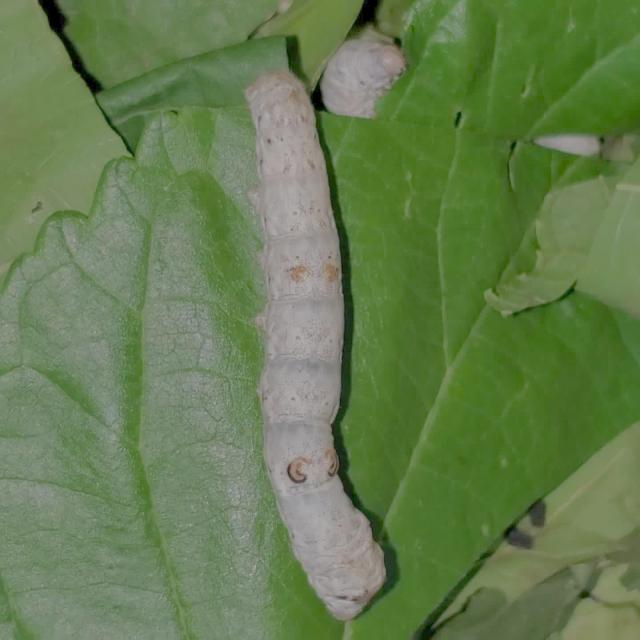Healthy: (212, 57, 432, 625)
